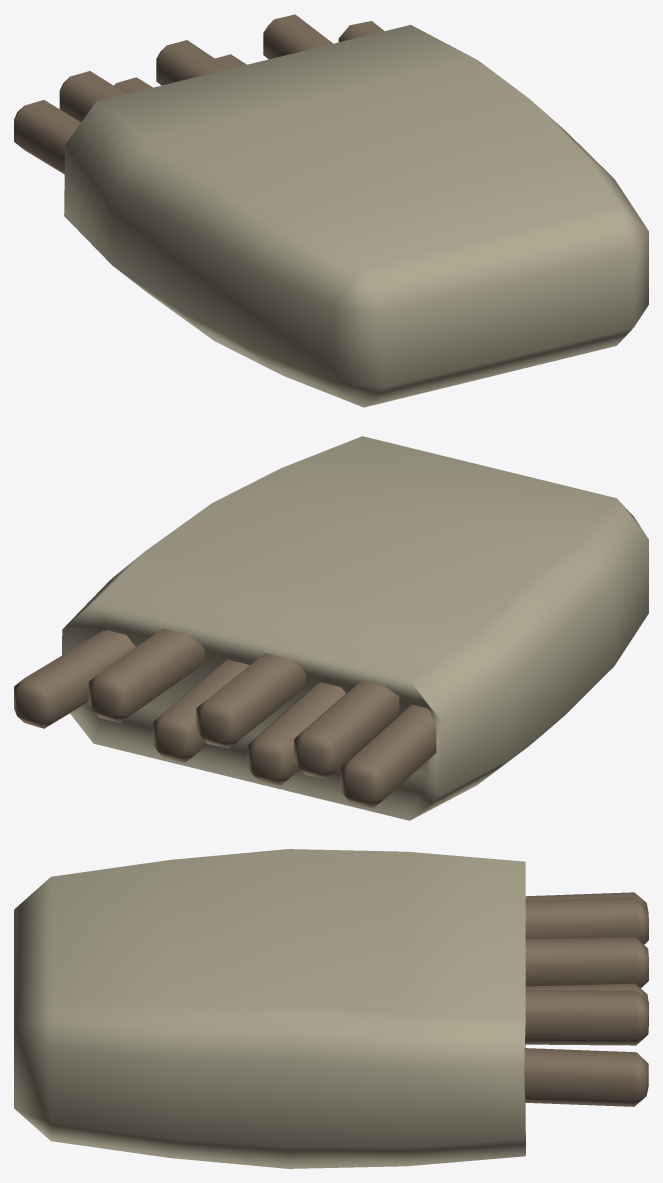
Rendered from PS_BreadSticks.fbx.
3 views of the same model, one above another, from view 1: azimuth 30°, elevation 25°; view 2: azimuth 150°, elevation 25°; view 3: azimuth 270°, elevation 25° (orthographic).
Visible parts, largest first — view 1: PS_BreadSticks; view 2: PS_BreadSticks; view 3: PS_BreadSticks.
Part boxes in pixels (x1,y1,x2,y2): PS_BreadSticks: (14,14,648,407); PS_BreadSticks: (14,436,648,820); PS_BreadSticks: (14,849,648,1168).
Size of the model in its own units: 0.2474 by 0.0974 by 0.3383.
